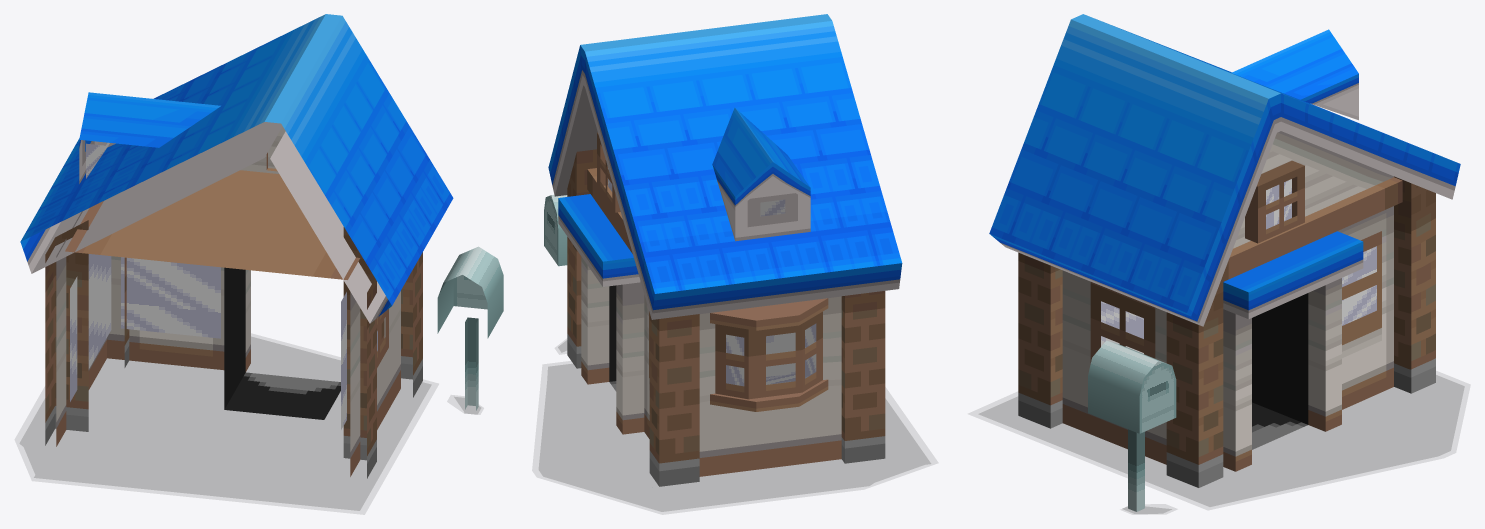
The model's file is nuvema_town_house_1_lev2.glb.
3 renders of one model, left to right at view 1: azimuth 30°, elevation 25°; view 2: azimuth 150°, elevation 25°; view 3: azimuth 270°, elevation 25°, orthographic. The views are drawn at different scales.
Parts seen in each view (by area): view 1: nuvema_town_house_1_lev2; view 2: nuvema_town_house_1_lev2; view 3: nuvema_town_house_1_lev2.
Part boxes in pixels (left/top/right/bottom): nuvema_town_house_1_lev2: left=19, top=14, right=503, bottom=510; nuvema_town_house_1_lev2: left=538, top=14, right=931, bottom=511; nuvema_town_house_1_lev2: left=978, top=14, right=1464, bottom=513.
Bounding box in the file's own units: 22.37 × 17.77 × 21.5.
7 materials, 7 textured.
